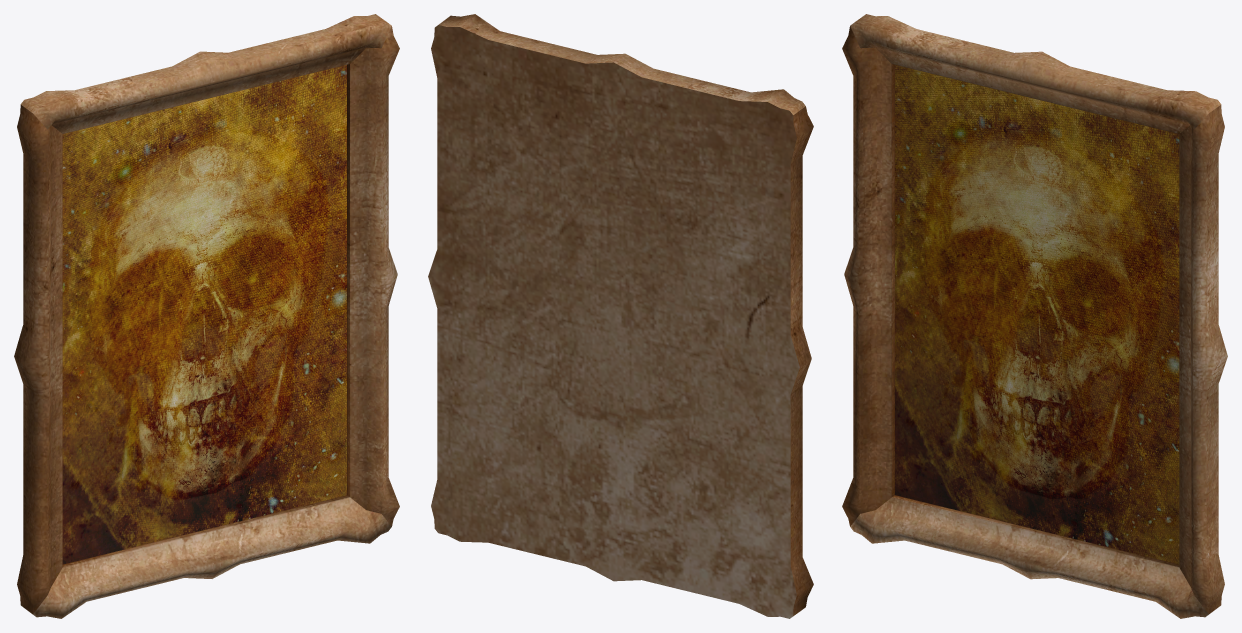
Rendered from painting_new_20.dae.
3 renders of one model, left to right at view 1: azimuth 30°, elevation 25°; view 2: azimuth 150°, elevation 25°; view 3: azimuth 330°, elevation 25°, orthographic.
Visible parts, largest first — view 1: painting_image05, painting_frame05; view 2: painting_frame05; view 3: painting_image05, painting_frame05.
Boxes of the visible parts, left/top/right/bottom form: painting_image05: left=62, top=65, right=346, bottom=564; painting_frame05: left=14, top=14, right=399, bottom=618; painting_frame05: left=428, top=14, right=813, bottom=618; painting_image05: left=895, top=65, right=1179, bottom=564; painting_frame05: left=842, top=14, right=1227, bottom=618.
Size of the model in its own units: 1.8 by 2.4 by 0.134.
